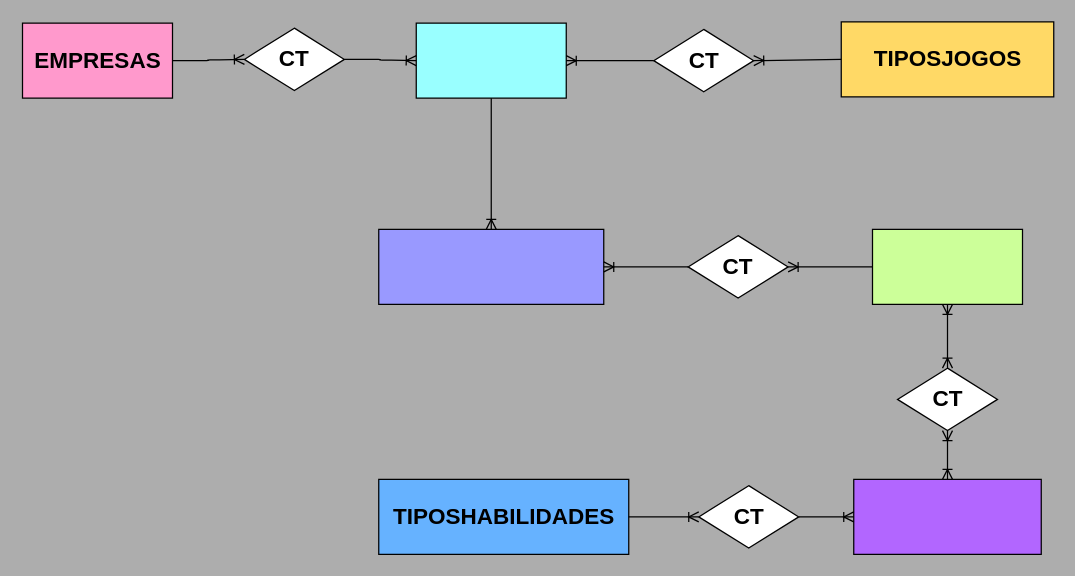
Some shapes in this 1075 by 576 pixel diagram are drawn without their labels. The centre of each missing label's shape, as x and y in pixels:
"CLASSES" belongs at (x=946, y=266).
"HABILIDADES" belongs at (x=946, y=516).
"JOGOS" belongs at (x=490, y=60).
"PERSONAGENS" belongs at (x=491, y=266).
